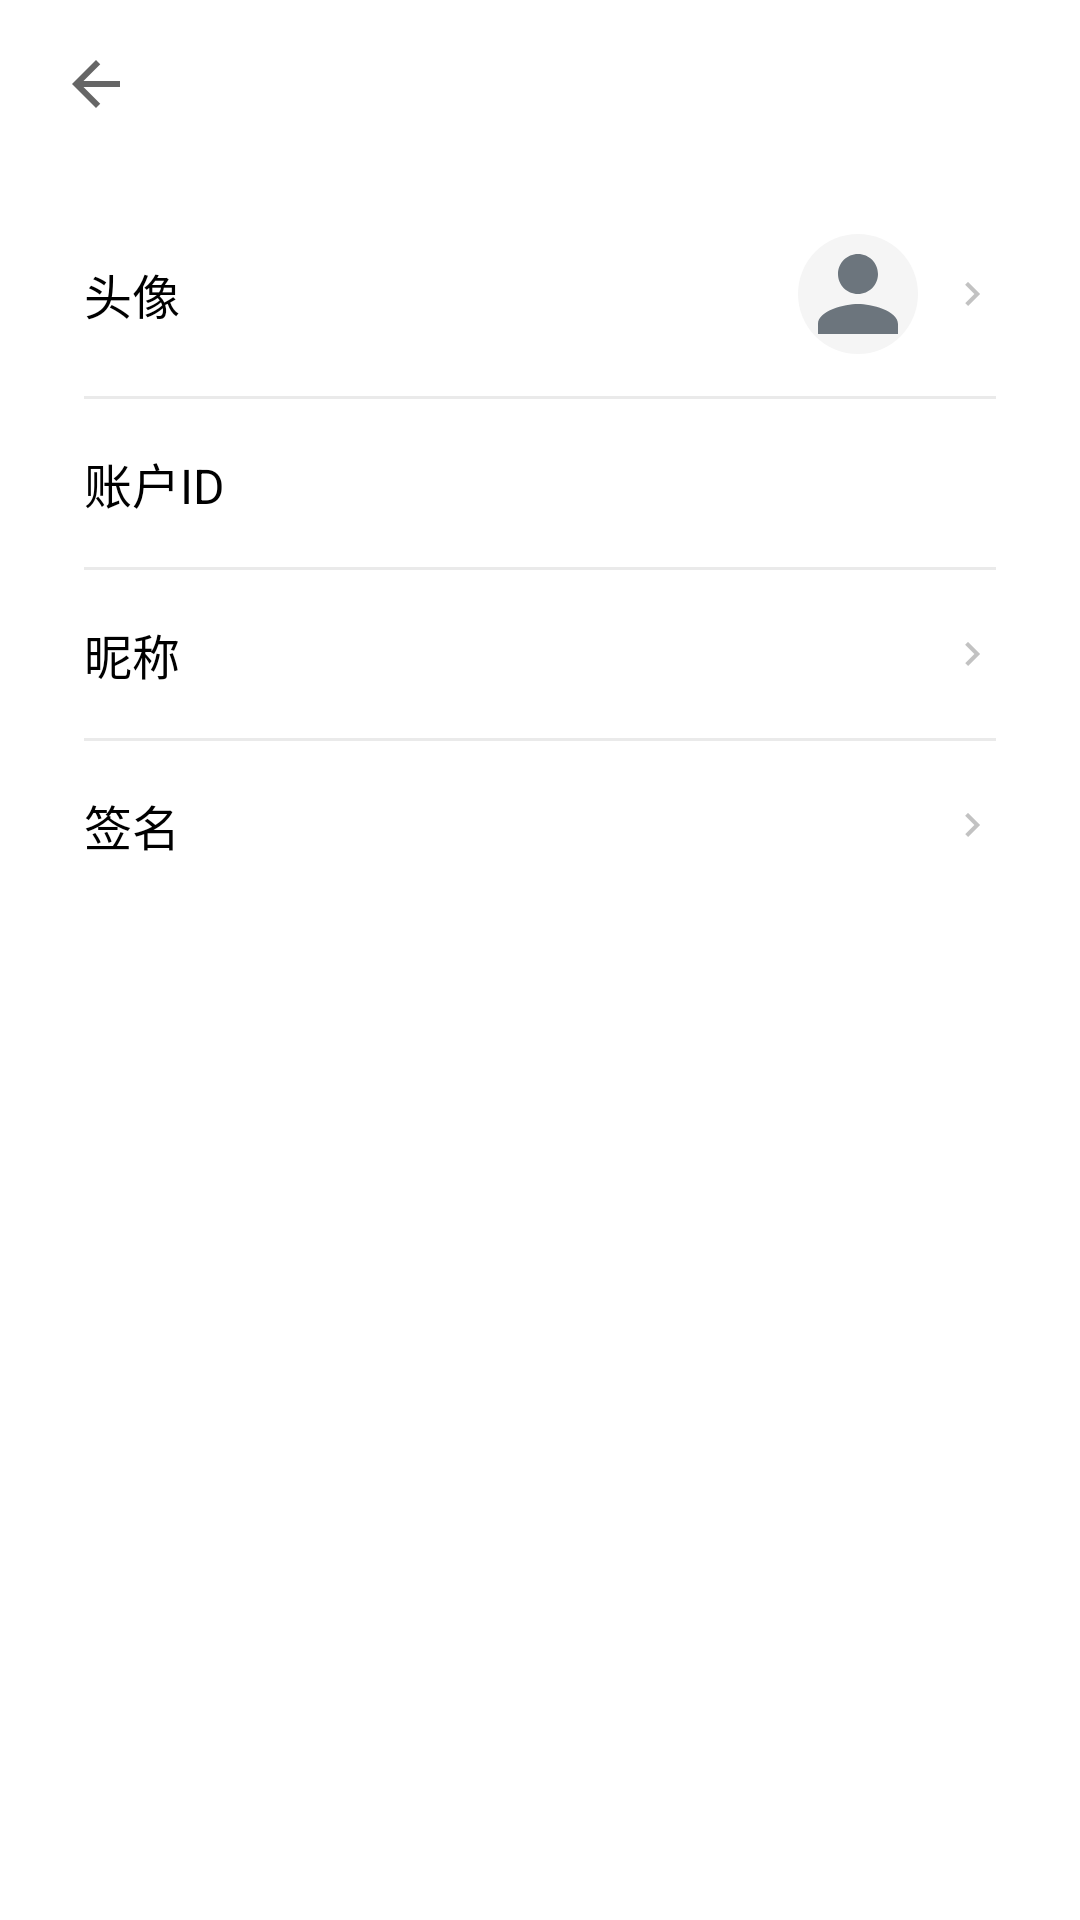

Icons on this 1080x1920 Android screen, each with the point to tap as [x,y]:
arrow right: [972,294], [972,654], [972,825]
